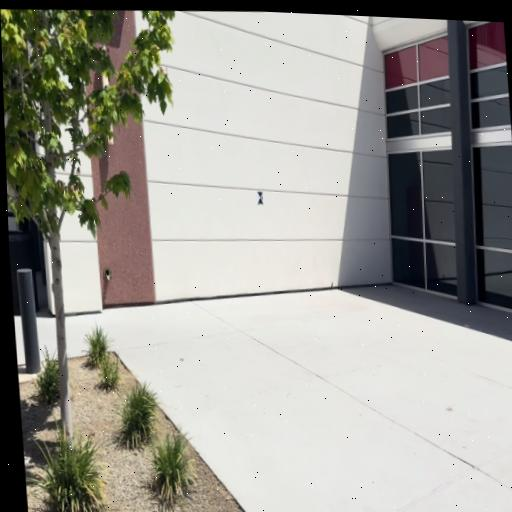target0: (257, 191, 263, 203)
